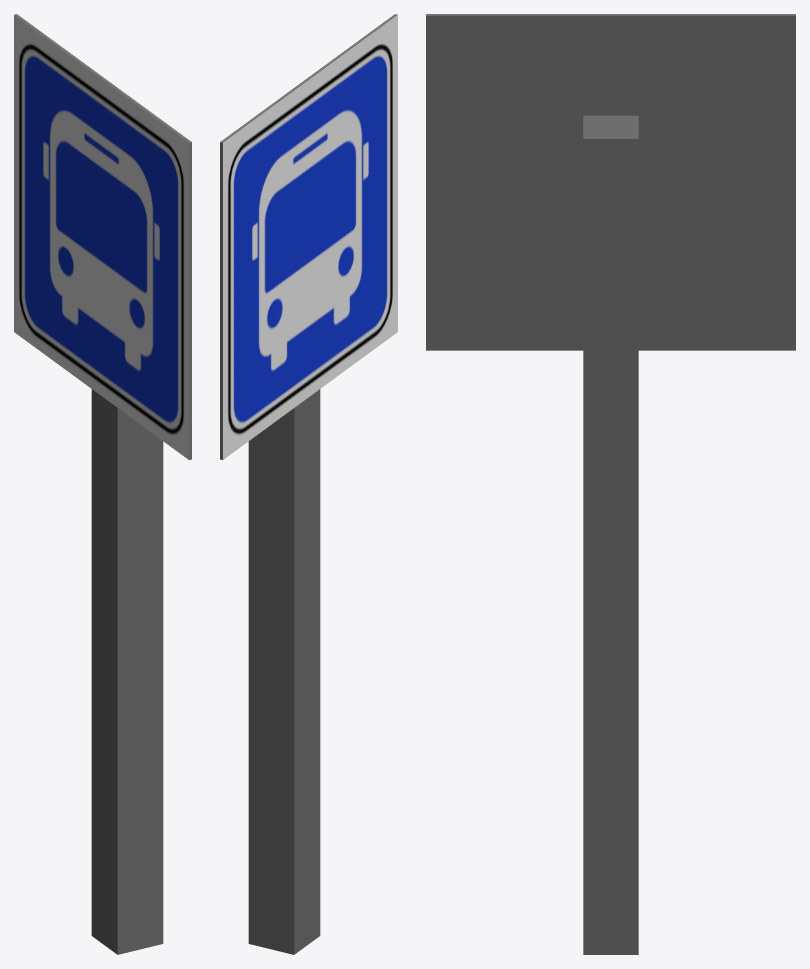
The model's file is LetreroAutobus.obj.
3 views of the same model, side by side, from view 1: azimuth 30°, elevation 25°; view 2: azimuth 150°, elevation 25°; view 3: azimuth 270°, elevation 25° (orthographic). The views are drawn at different scales.
Parts seen in each view (by area): view 1: LetreroAutobus:pCube22, LetreroAutobus:pCube2; view 2: LetreroAutobus:pCube22, LetreroAutobus:pCube2; view 3: LetreroAutobus:pCube22, LetreroAutobus:pCube2.
Boxes of the visible parts, x1=… form: LetreroAutobus:pCube22: x1=14, y1=14, x2=191, y2=459; LetreroAutobus:pCube2: x1=91, y1=389, x2=163, y2=954; LetreroAutobus:pCube22: x1=220, y1=14, x2=397, y2=459; LetreroAutobus:pCube2: x1=248, y1=389, x2=320, y2=954; LetreroAutobus:pCube22: x1=426, y1=14, x2=795, y2=350; LetreroAutobus:pCube2: x1=583, y1=115, x2=638, y2=954.
Bounding box in the file's own units: 0.1603 × 2.73 × 1.
3 materials, 2 textured.
